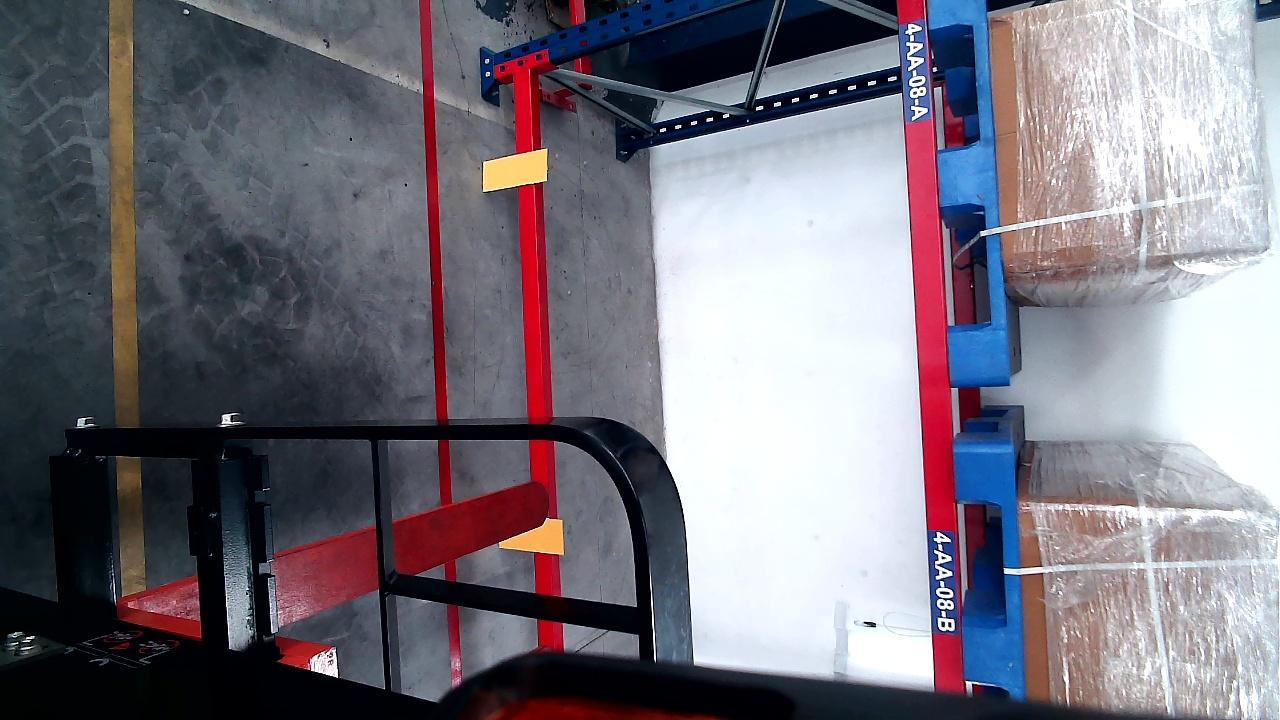red_line: (419, 0, 465, 689)
yellow_line: (109, 0, 147, 602)
